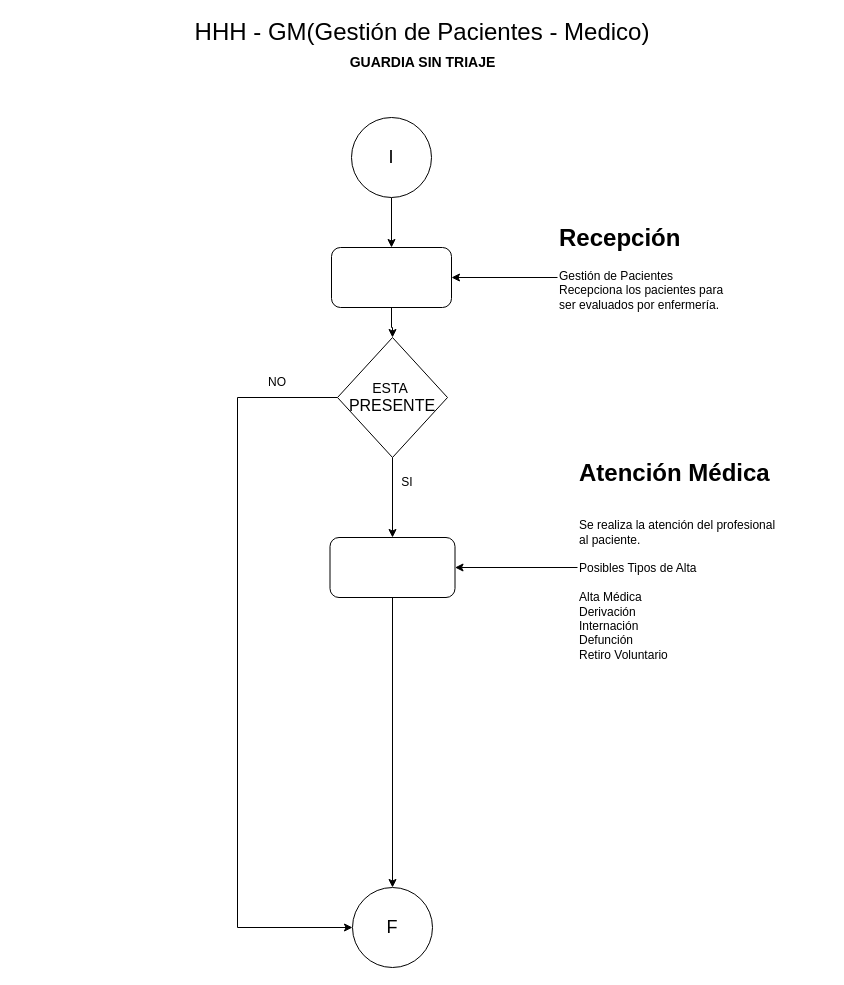
The diagram is 844 pixels wide and 985 high, and some of its shapes have lost their labels. The shapes that lost their labels are listed below. From the top down, each one's centre as x and y in pixels, then its label:
At (391,277): "RECEPCIONAR PACIENTE".
At (392,567): "ATENDER PACIENTE".
